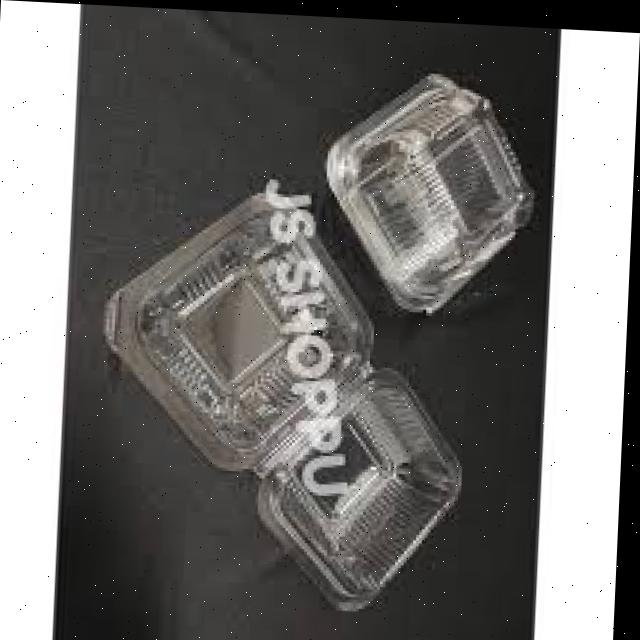disposable: (95, 181, 416, 479)
